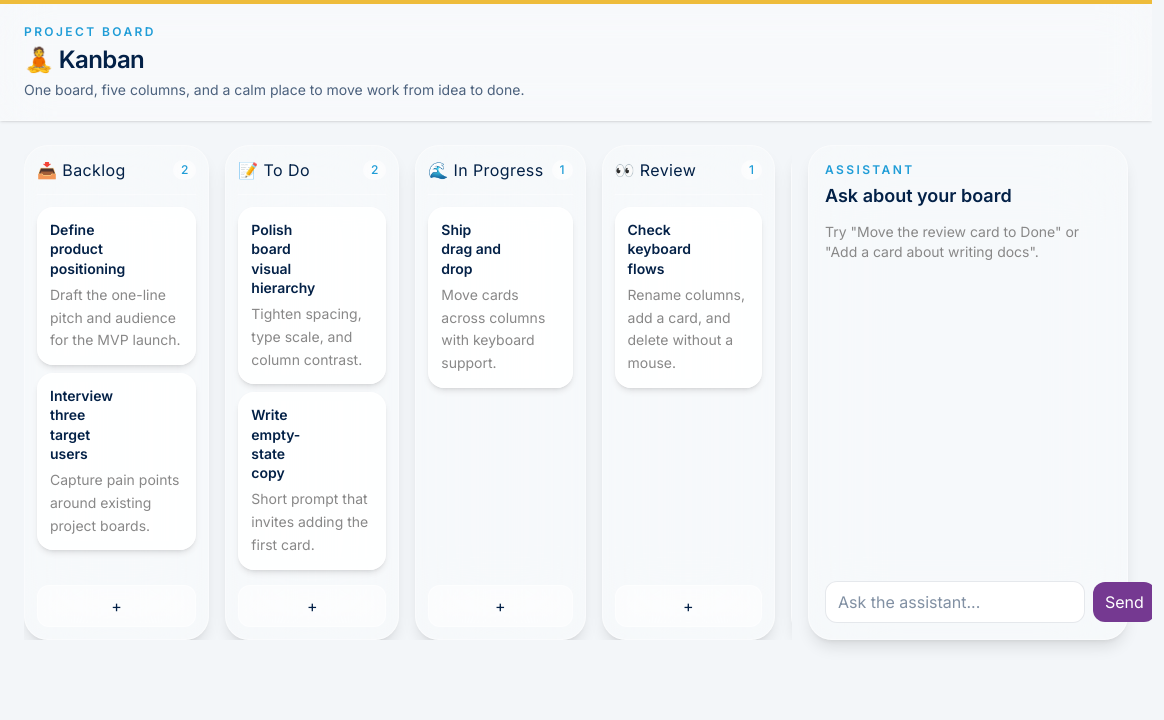
Test case: Board › renames a column
This screenshot has width=1164, height=720.
Click the button with test id "column-title-col-todo".
click(274, 170)  # box [238,158,310,182]
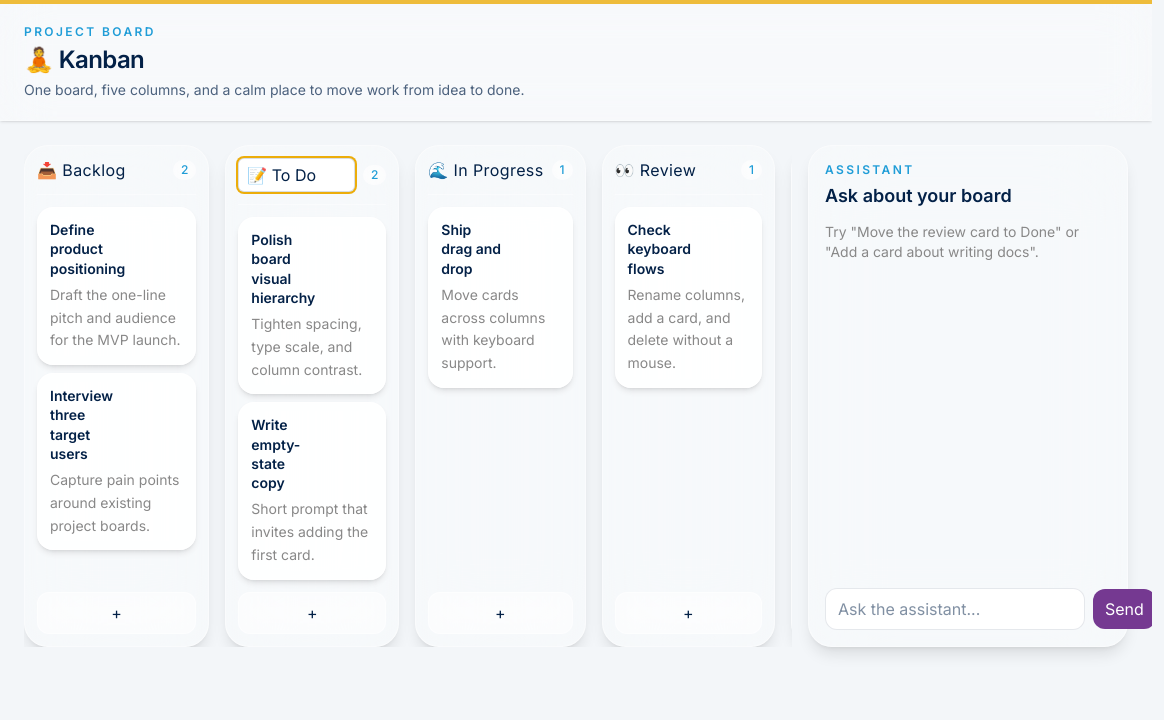
Replace the text in the field with test id "column-title-input-col-todo" with "Ready" at (297, 175), box [238,158,355,192]
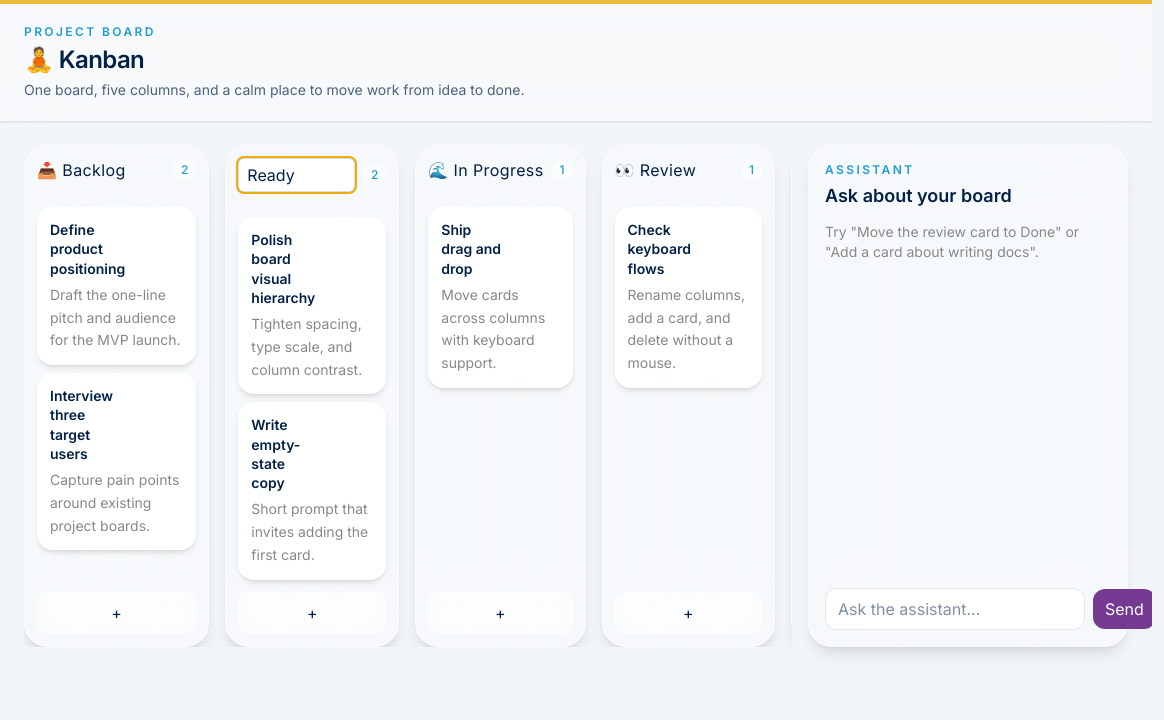
Press Enter
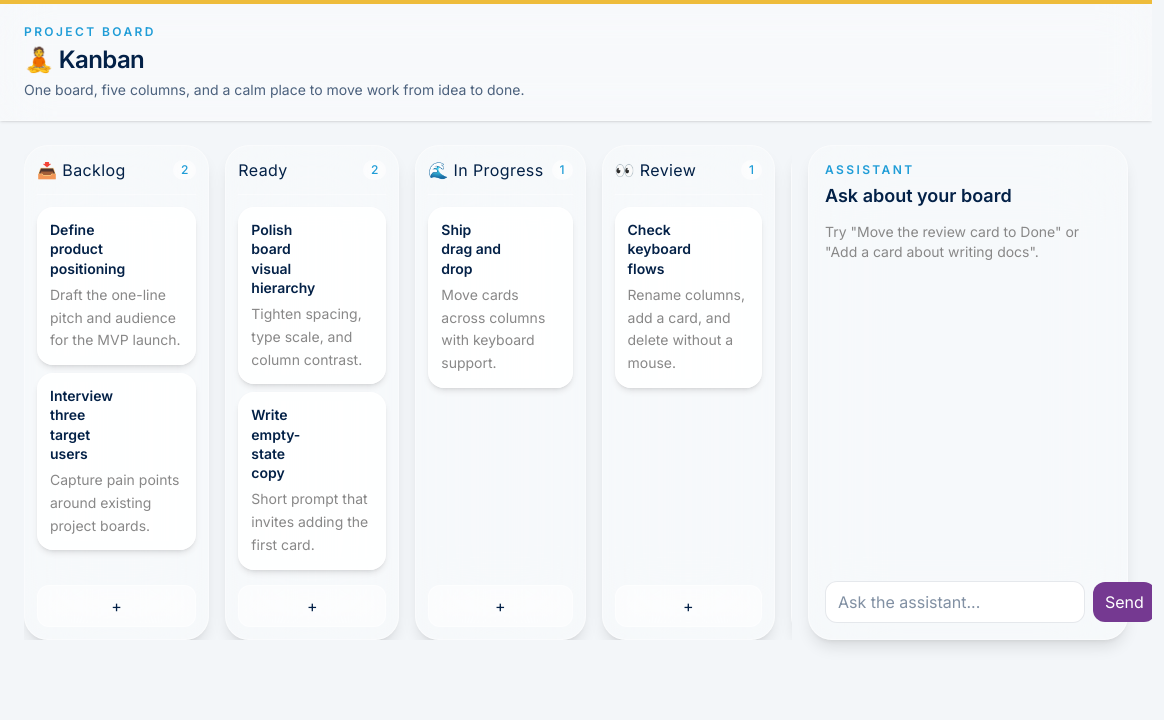
Check: the button with test id "column-title-col-todo" reads "Ready", box [238,158,288,182]
